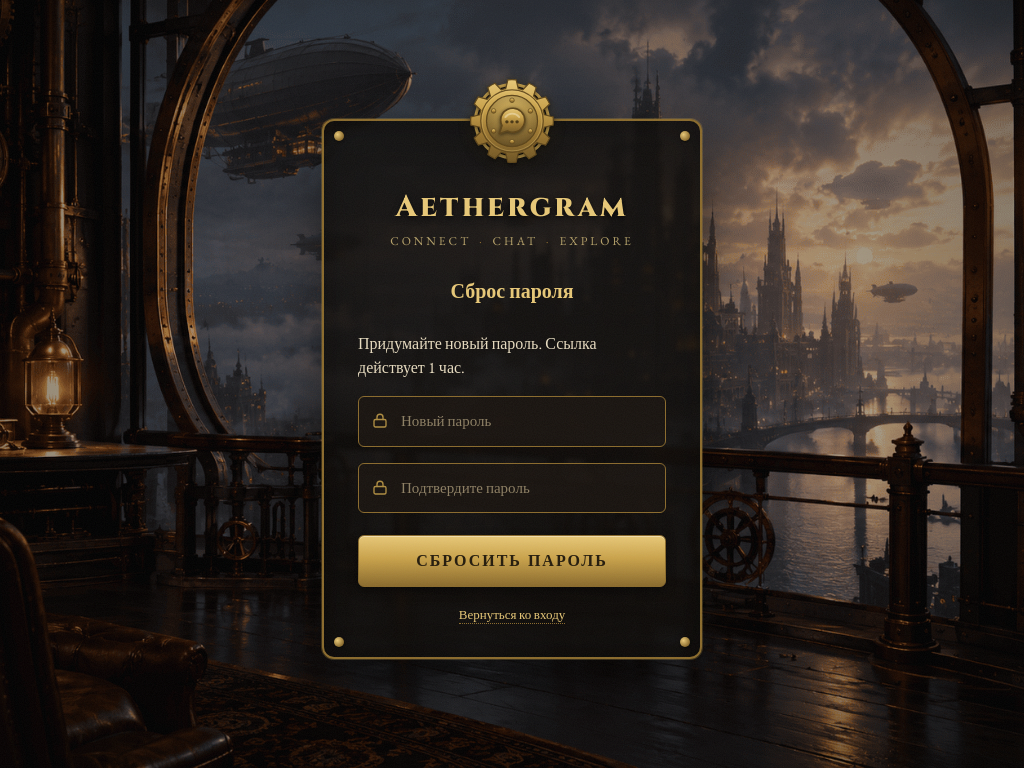
it: ResetPasswordPage › uses the token from the /reset-password link and completes the reset on 204
Type "correct horse" into the password field labelled "Новый пароль" at x=512, y=421, box [358,396,666,447]
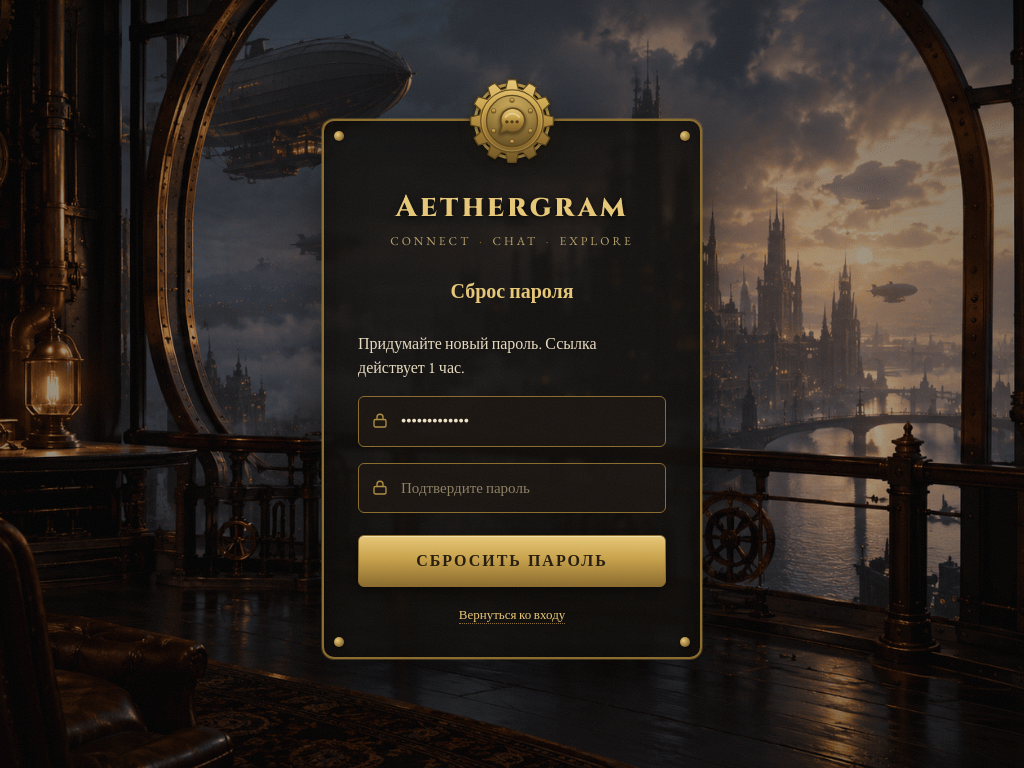
Type "correct horse" into the password field labelled "Подтвердите пароль" at x=512, y=488, box [358,463,666,513]
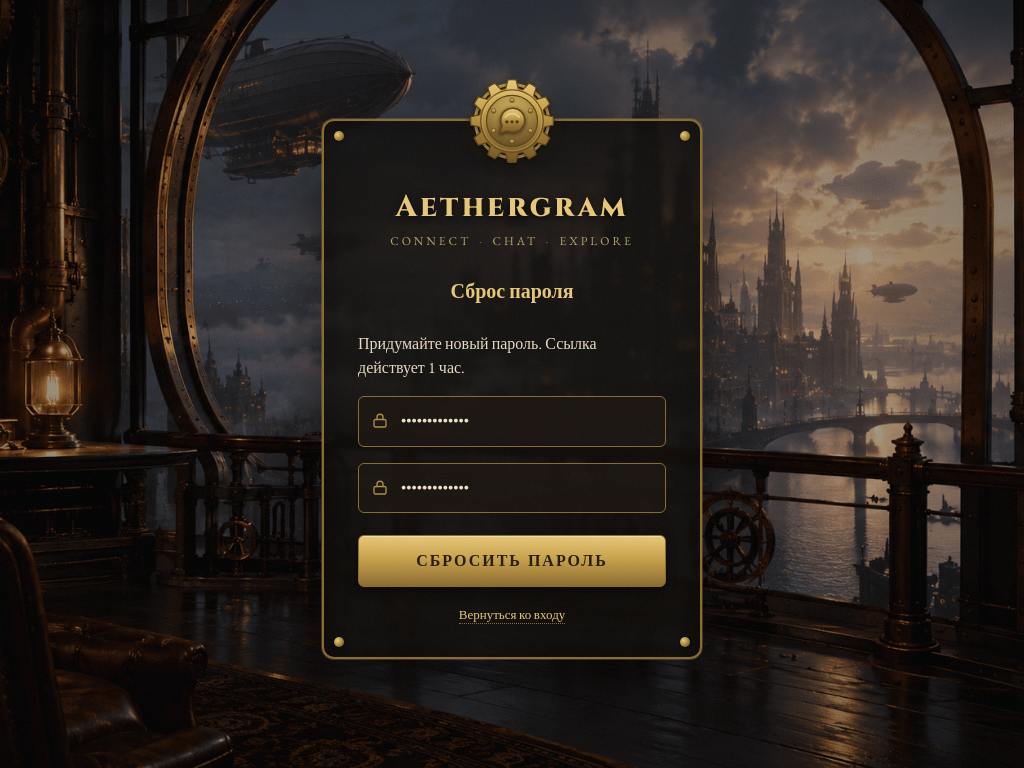
Click the button "СБРОСИТЬ ПАРОЛЬ" at x=512, y=561, box [358,535,666,587]
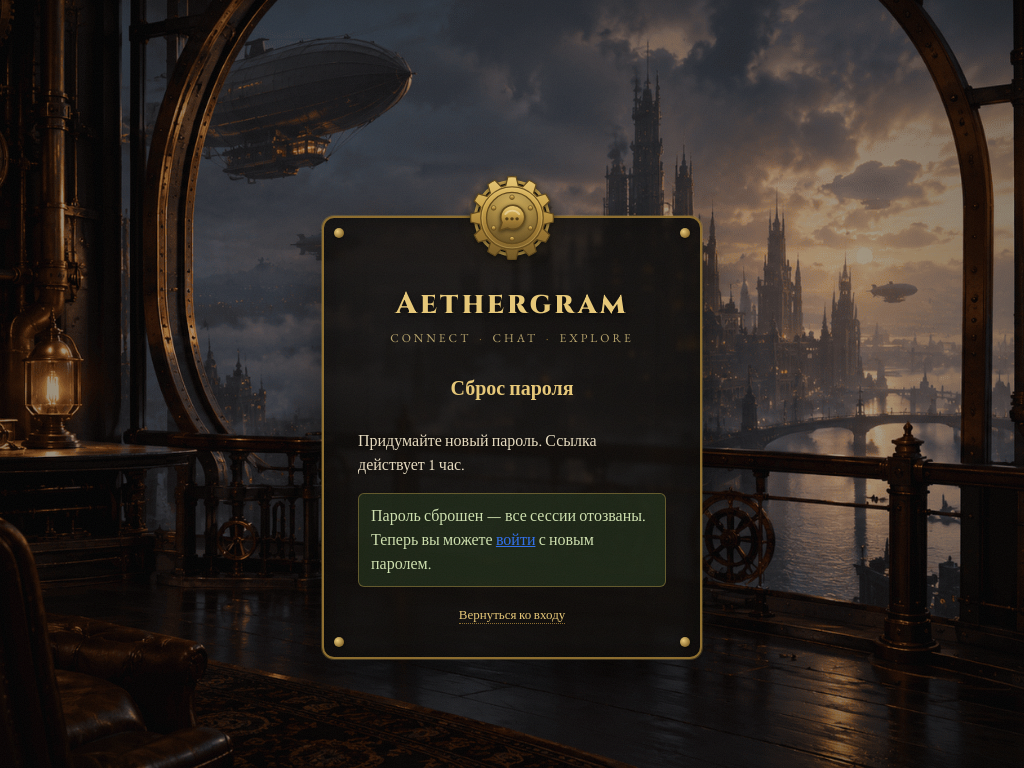
Expected: the text "Пароль сброшен — все сессии отозваны." is shown, [371,505,646,550]
Expected: the button "СБРОСИТЬ ПАРОЛЬ" is gone
